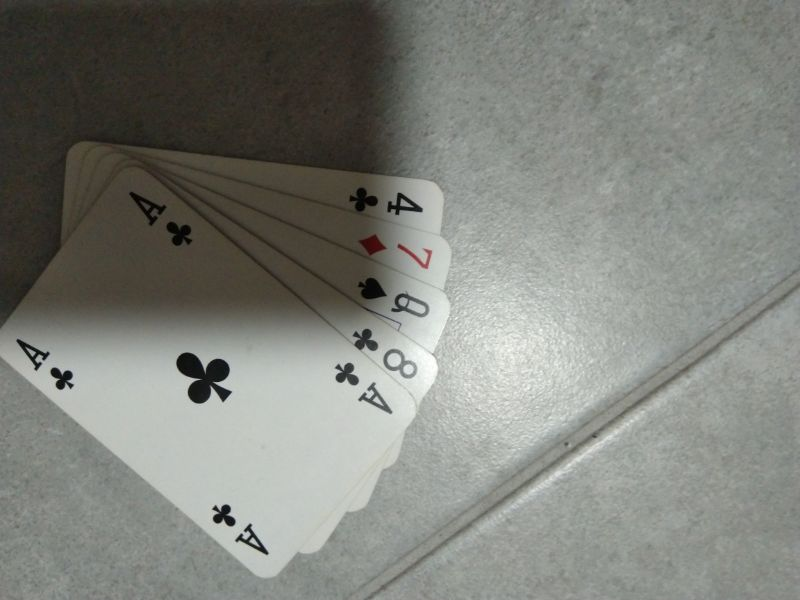4c: (345, 183, 426, 225)
7d: (355, 230, 437, 273)
8c: (346, 321, 420, 382)
Ac: (124, 187, 196, 251), (330, 356, 398, 418), (11, 334, 78, 394), (207, 499, 272, 559)
Qs: (351, 272, 434, 323)
